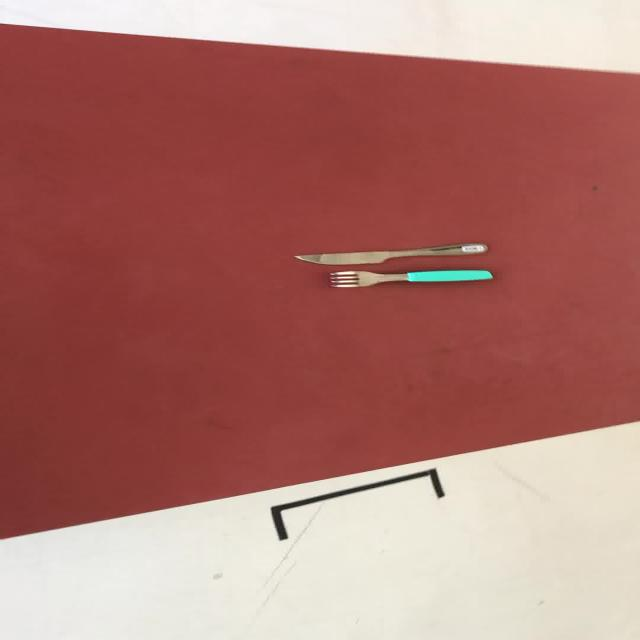fork: (326, 268, 493, 288)
knife fork: (292, 242, 488, 265)
